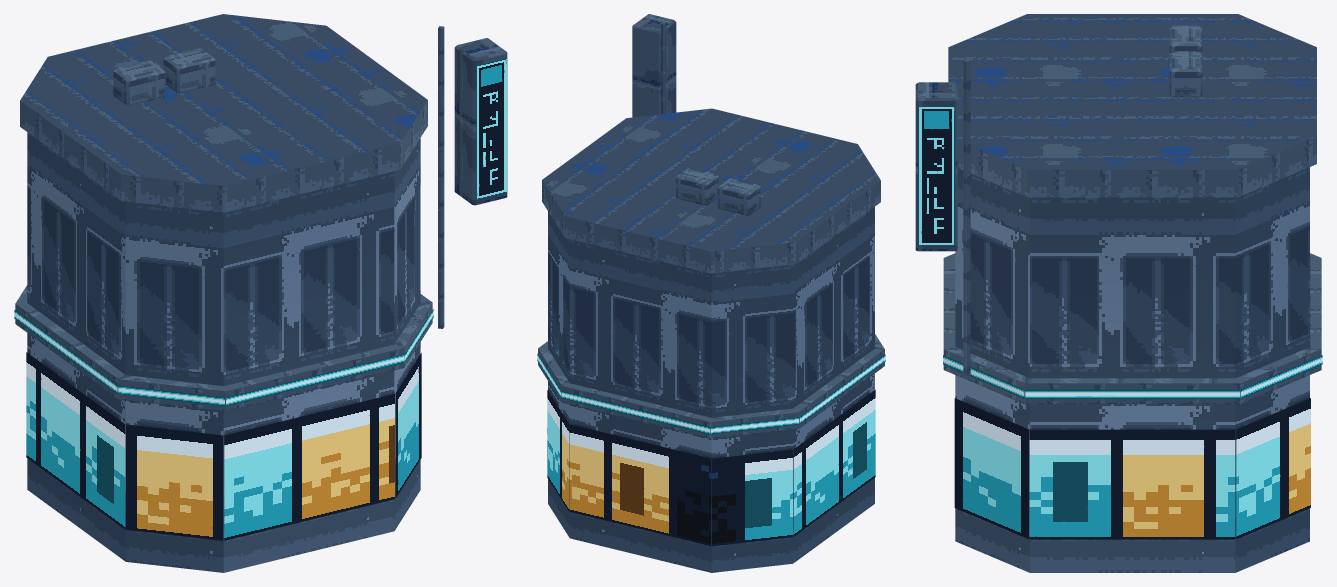
File: cytower.annex.glb
3 views of the same model, side by side, from view 1: azimuth 30°, elevation 25°; view 2: azimuth 150°, elevation 25°; view 3: azimuth 270°, elevation 25° (orthographic). The views are drawn at different scales.
Visible parts, largest first — view 1: kit_block, kit_card_cards, kit_mast; view 2: kit_block, kit_card_cards, kit_mast; view 3: kit_block, kit_card_cards, kit_mast.
Part boxes in pixels (x1,y1,x2,y2): kit_block: (15, 14, 507, 572); kit_card_cards: (14, 58, 507, 540); kit_mast: (438, 26, 444, 328); kit_block: (538, 14, 884, 572); kit_card_cards: (537, 354, 885, 546); kit_mast: (660, 22, 665, 114); kit_block: (915, 14, 1321, 572); kit_card_cards: (918, 106, 1322, 539); kit_mast: (963, 59, 970, 374).
Size of the model in its own units: 8.76 by 12 by 8.76.
Materials: 9 (9 with a texture image).
